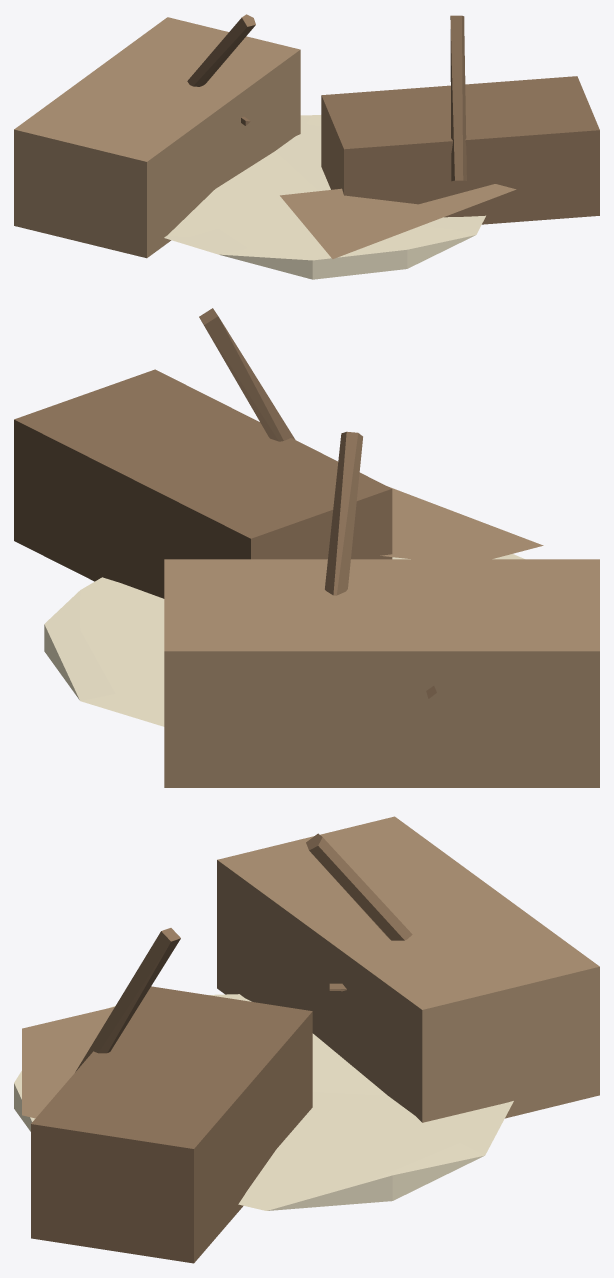
File: 27-Islas-Ubicaciones_cementerio_barcos.glb
3 views of the same model, one above another, from view 1: azimuth 30°, elevation 25°; view 2: azimuth 150°, elevation 25°; view 3: azimuth 270°, elevation 25° (orthographic). The views are drawn at different scales.
Parts seen in each view (by area): view 1: SM_Cementerio_M_Cementerio_Madera, SM_Cementerio_M_Cementerio_Madera_Osc, SM_Cementerio_M_Cementerio_Arena; view 2: SM_Cementerio_M_Cementerio_Madera, SM_Cementerio_M_Cementerio_Madera_Osc, SM_Cementerio_M_Cementerio_Arena; view 3: SM_Cementerio_M_Cementerio_Madera, SM_Cementerio_M_Cementerio_Madera_Osc, SM_Cementerio_M_Cementerio_Arena.
Part boxes in pixels (left/top/right/bottom): SM_Cementerio_M_Cementerio_Madera: left=14, top=17, right=516, bottom=258; SM_Cementerio_M_Cementerio_Madera_Osc: left=187, top=14, right=599, bottom=224; SM_Cementerio_M_Cementerio_Arena: left=164, top=115, right=485, bottom=279; SM_Cementerio_M_Cementerio_Madera: left=164, top=486, right=599, bottom=787; SM_Cementerio_M_Cementerio_Madera_Osc: left=14, top=308, right=436, bottom=698; SM_Cementerio_M_Cementerio_Arena: left=44, top=554, right=524, bottom=726; SM_Cementerio_M_Cementerio_Madera: left=22, top=816, right=599, bottom=1122; SM_Cementerio_M_Cementerio_Madera_Osc: left=31, top=833, right=412, bottom=1263; SM_Cementerio_M_Cementerio_Arena: left=14, top=994, right=513, bottom=1210.
Bounding box in the file's own units: 4.77 × 1.74 × 3.71.
